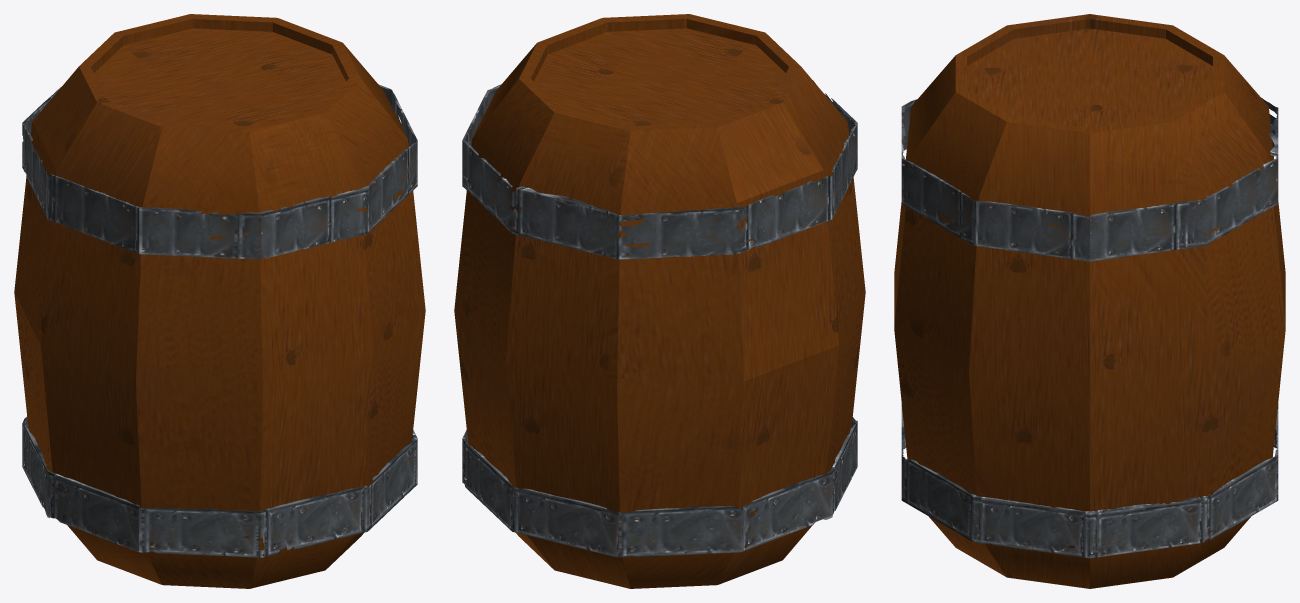
Rendered from barril.obj.
The picture shows the model from 3 angles, left to right: view 1: azimuth 30°, elevation 25°; view 2: azimuth 150°, elevation 25°; view 3: azimuth 270°, elevation 25°; orthographic projection.
Parts seen in each view (by area): view 1: pCylinder2; view 2: pCylinder2; view 3: pCylinder2.
Part boxes in pixels (x1=…): pCylinder2: x1=14, y1=14, x2=425, y2=588; pCylinder2: x1=454, y1=14, x2=865, y2=588; pCylinder2: x1=894, y1=14, x2=1285, y2=588.
Size of the model in its own units: 0.7376 by 0.9004 by 0.7015.
Materials: 1 (1 with a texture image).
